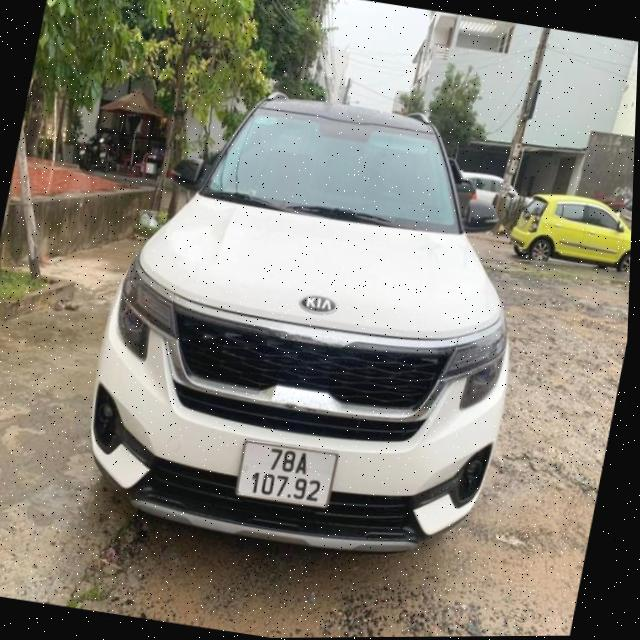car: (67, 70, 559, 582), (502, 180, 633, 280)
plate: (224, 429, 348, 517)
